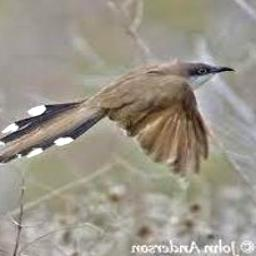Cuckoo: (0, 59, 235, 175)
